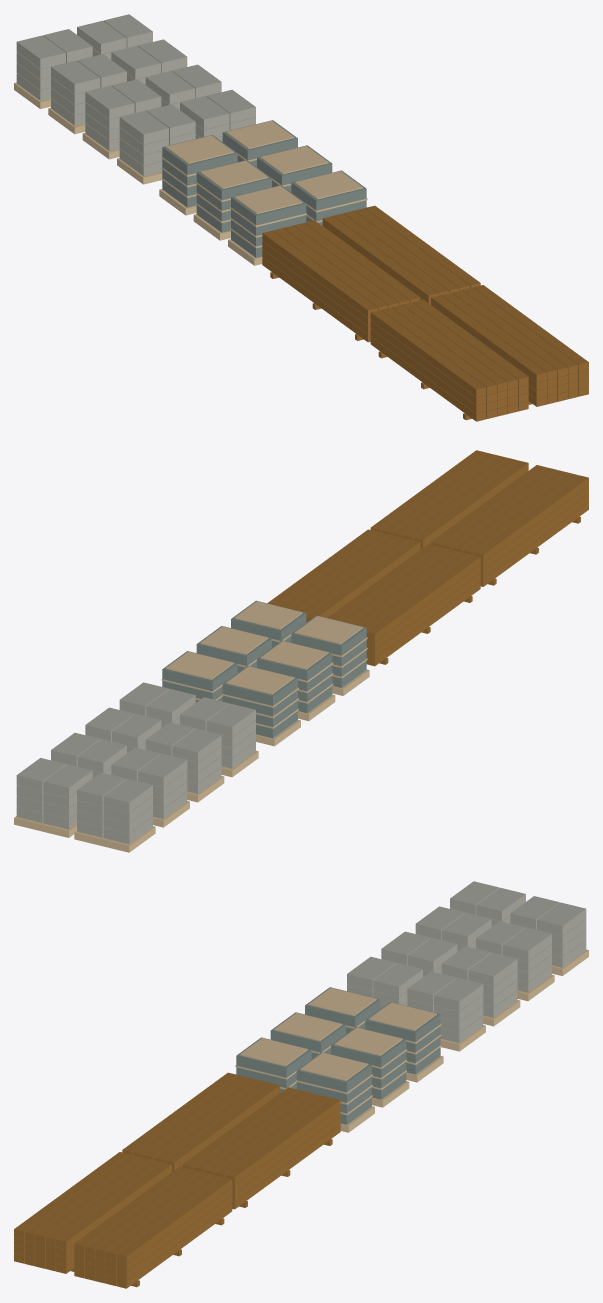
File: SM_CargaMateriales_Lleno_LOD0.fbx
3 renders of one model, top to bottom at view 1: azimuth 30°, elevation 25°; view 2: azimuth 150°, elevation 25°; view 3: azimuth 330°, elevation 25°, orthographic.
Visible parts, largest first — view 1: SM_carga_vagon_v10_LOD0; view 2: SM_carga_vagon_v10_LOD0; view 3: SM_carga_vagon_v10_LOD0.
Part boxes in pixels (x1,y1,x2,y2): SM_carga_vagon_v10_LOD0: (14, 14, 588, 421); SM_carga_vagon_v10_LOD0: (14, 450, 588, 852); SM_carga_vagon_v10_LOD0: (14, 881, 588, 1288).
Bounding box in the file's own units: 2.52 × 1.04 × 17.45.
